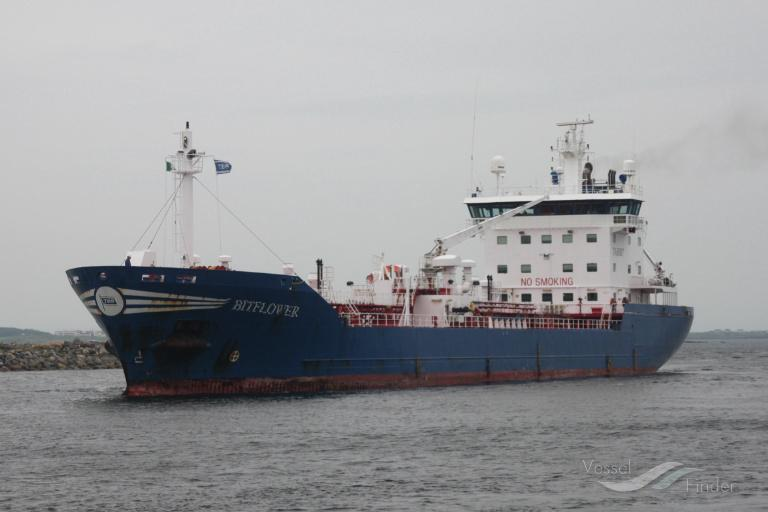OCR: (226, 292, 304, 318)
